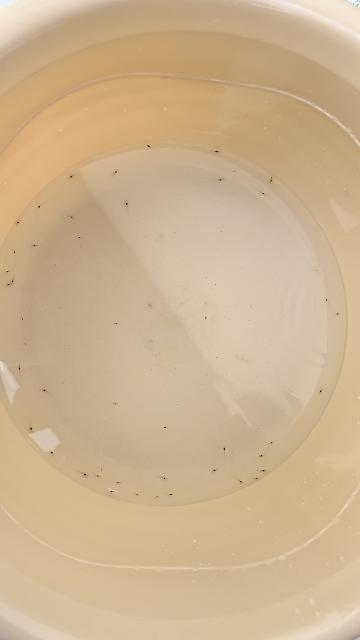benur: (260, 452, 266, 458), (163, 424, 169, 430), (215, 149, 222, 154), (10, 280, 15, 286), (18, 367, 23, 373), (210, 469, 216, 474), (319, 387, 324, 393), (219, 177, 225, 182), (203, 316, 208, 322), (14, 221, 19, 226), (51, 451, 56, 456), (222, 445, 227, 450), (336, 311, 341, 316), (30, 427, 34, 433), (261, 469, 267, 473), (114, 322, 120, 326), (145, 143, 150, 147), (36, 205, 40, 210), (21, 318, 26, 322), (41, 388, 46, 392), (84, 473, 89, 477), (94, 473, 99, 477), (135, 493, 140, 497), (170, 492, 174, 497), (163, 477, 168, 481), (255, 476, 260, 480), (270, 440, 275, 444), (315, 268, 320, 272), (262, 192, 267, 196), (125, 200, 128, 206), (115, 169, 119, 173), (68, 176, 72, 180), (31, 243, 35, 247), (6, 269, 10, 273), (240, 481, 244, 485), (100, 468, 104, 472), (113, 402, 117, 406), (147, 303, 151, 307), (325, 297, 328, 302), (71, 216, 75, 219), (13, 249, 16, 253), (7, 283, 11, 286), (108, 490, 112, 493), (116, 481, 119, 485), (156, 495, 159, 499), (270, 176, 273, 180), (270, 179, 273, 182), (78, 236, 81, 238)
